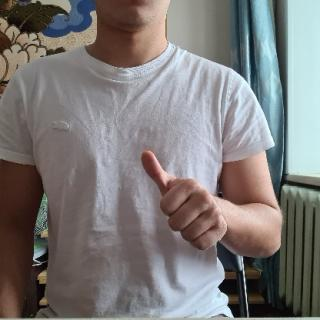ALIF: (139, 145, 232, 251)
